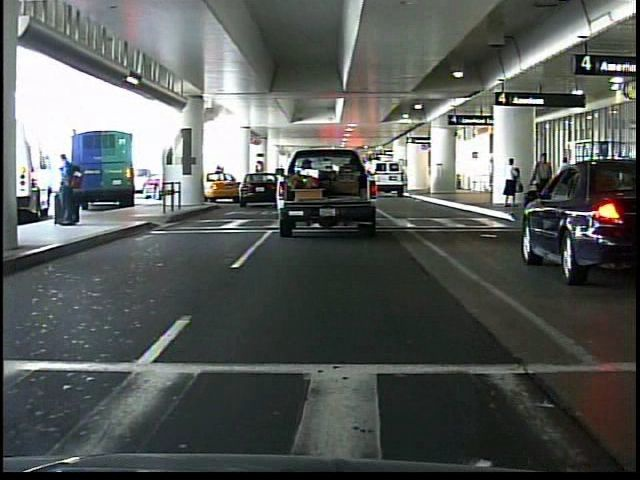person: (53, 147, 86, 235), (531, 149, 556, 215), (500, 155, 524, 210)
